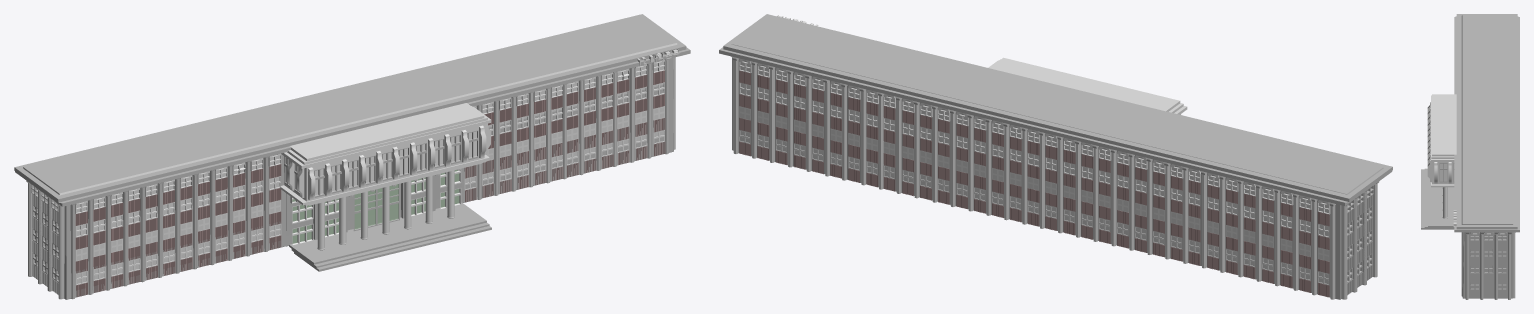
Rendered from 대학본부 모델링 진짜.fbx.
3 views of the same model, side by side, from view 1: azimuth 30°, elevation 25°; view 2: azimuth 150°, elevation 25°; view 3: azimuth 270°, elevation 25° (orthographic). The views are drawn at different scales.
Visible parts, largest first — view 1: pCube39, pPlane1010, pCube90, pCube360, pCube128, pPlane1012, pPlane1013, pCube64, pCube351, pPlane275, pCube362, pCube361 (+8 smaller); view 2: pCube39, pCube360, pCube351, pCube90, polySurface148, polySurface139, polySurface141, polySurface131, polySurface124, polySurface130, polySurface153, polySurface151 (+26 smaller); view 3: pCube39, pCube90, pCube360, pCube128, pCube362, pCube361, pCylinder8, pPlane743, pPlane747, pPlane758, pPlane763, pPlane751 (+10 smaller).
Boxes of the visible parts, x1=… form: pCube39: x1=14, y1=14, x2=690, y2=299; pPlane1010: x1=464, y1=60, x2=665, y2=202; pCube90: x1=280, y1=103, x2=491, y2=205; pCube360: x1=477, y1=57, x2=675, y2=199; pCube128: x1=289, y1=202, x2=486, y2=264; pPlane1012: x1=314, y1=130, x2=478, y2=197; pPlane1013: x1=290, y1=170, x2=461, y2=245; pCube64: x1=286, y1=168, x2=462, y2=246; pCube351: x1=26, y1=180, x2=64, y2=299; pPlane275: x1=353, y1=183, x2=399, y2=231; pCube362: x1=294, y1=226, x2=491, y2=271; pCube361: x1=291, y1=222, x2=489, y2=268; pCube39: x1=719, y1=14, x2=1392, y2=299; pCube360: x1=731, y1=56, x2=1170, y2=259; pCube351: x1=1181, y1=166, x2=1379, y2=299; pCube90: x1=988, y1=57, x2=1187, y2=114; polySurface148: x1=1188, y1=168, x2=1200, y2=265; polySurface139: x1=1027, y1=129, x2=1039, y2=226; polySurface141: x1=1063, y1=138, x2=1075, y2=235; polySurface131: x1=883, y1=94, x2=895, y2=191; polySurface124: x1=757, y1=63, x2=769, y2=160; polySurface130: x1=866, y1=90, x2=878, y2=187; polySurface153: x1=1280, y1=191, x2=1293, y2=288; polySurface151: x1=1243, y1=182, x2=1255, y2=279; pCube39: x1=1454, y1=14, x2=1519, y2=298; pCube90: x1=1431, y1=94, x2=1456, y2=187; pCube360: x1=1461, y1=232, x2=1515, y2=299; pCube128: x1=1428, y1=177, x2=1454, y2=227; pCube362: x1=1421, y1=169, x2=1454, y2=229; pCube361: x1=1424, y1=168, x2=1454, y2=228; pCylinder8: x1=1442, y1=187, x2=1447, y2=218; pPlane743: x1=1470, y1=240, x2=1479, y2=248; pPlane747: x1=1470, y1=273, x2=1479, y2=281; pPlane758: x1=1497, y1=273, x2=1506, y2=281; pPlane763: x1=1484, y1=273, x2=1493, y2=281; pPlane751: x1=1484, y1=240, x2=1493, y2=248.
Bounding box in the file's own units: 50.91 × 8.67 × 9.96.
